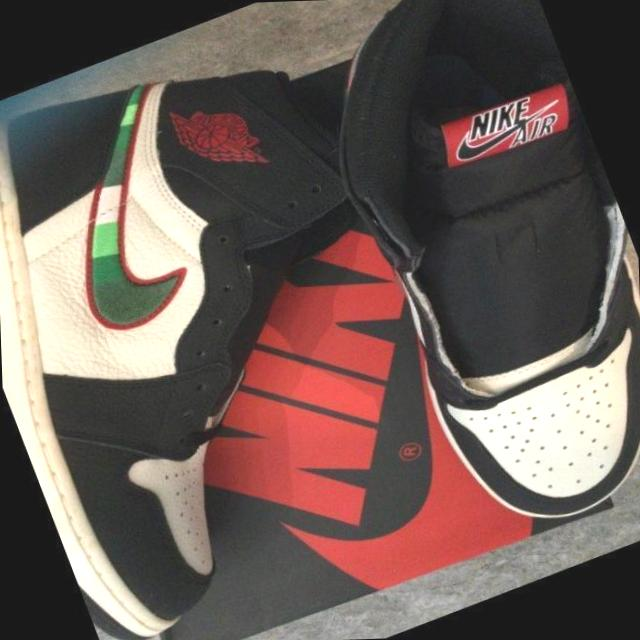nike_original_jordan: (0, 0, 486, 640), (277, 0, 640, 562)
